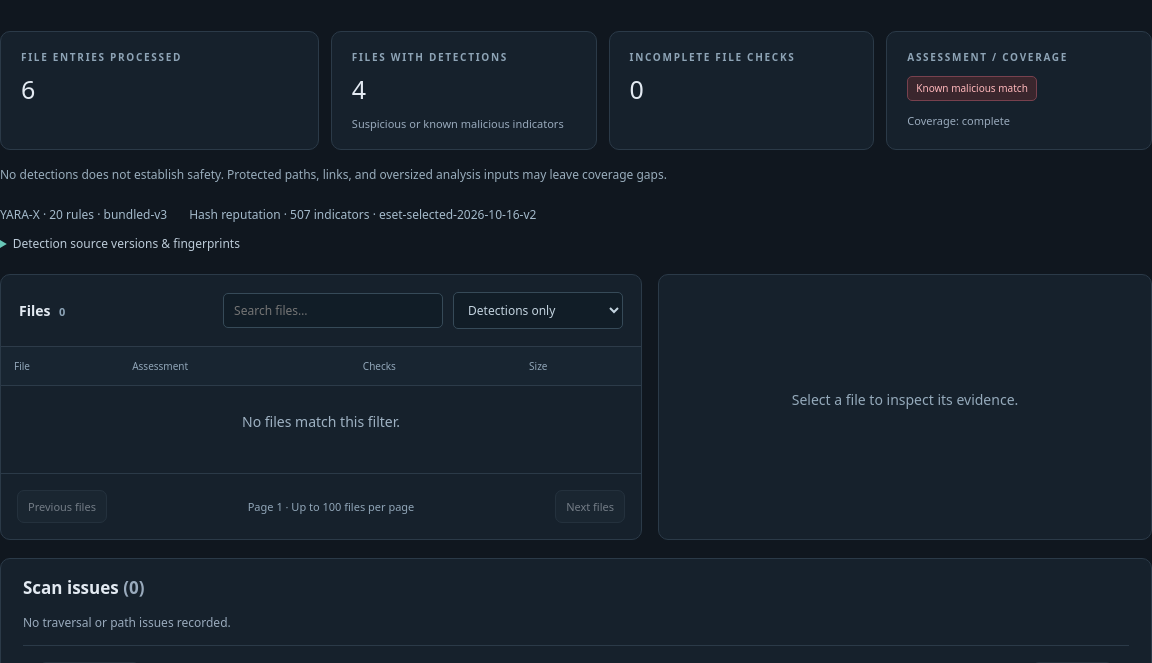
Test case: full-system scan workflow › pages backend results, requests details by ID, and exports the retained session
(page scrolled)
Select "All results" in the dropdown named "Filter system results" at (538, 311), box [453,292,623,329]
(page scrolled)
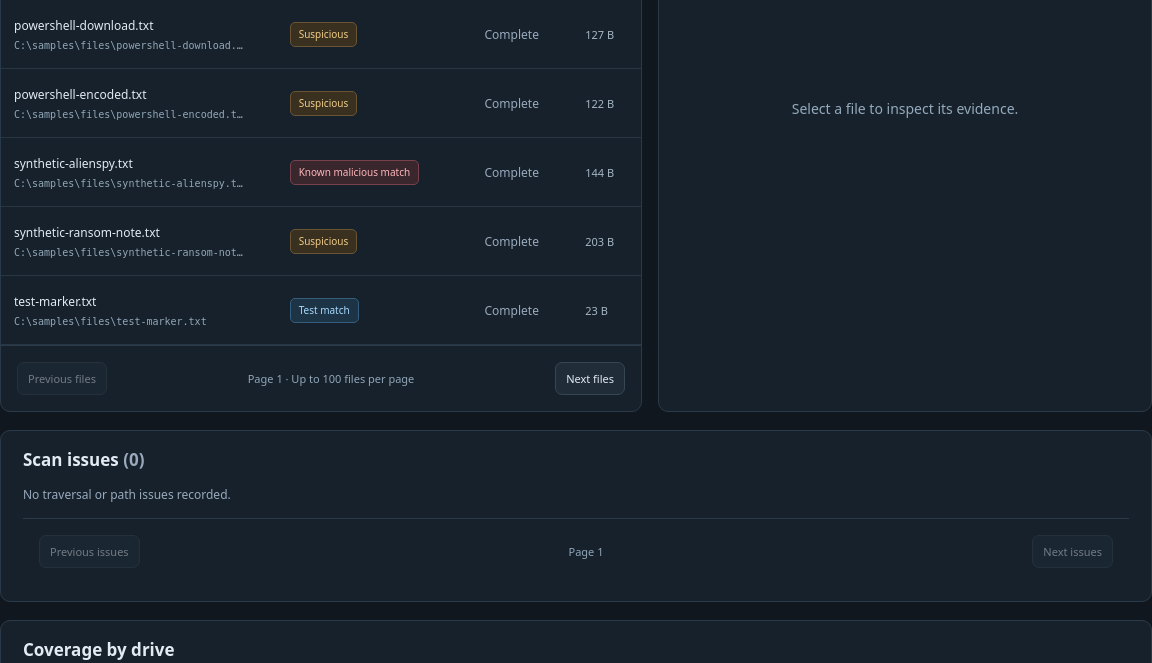
Click the button "test-marker.txt C:\\samples\\files\\test-marker.txt" at (55, 302), box [1,276,277,344]
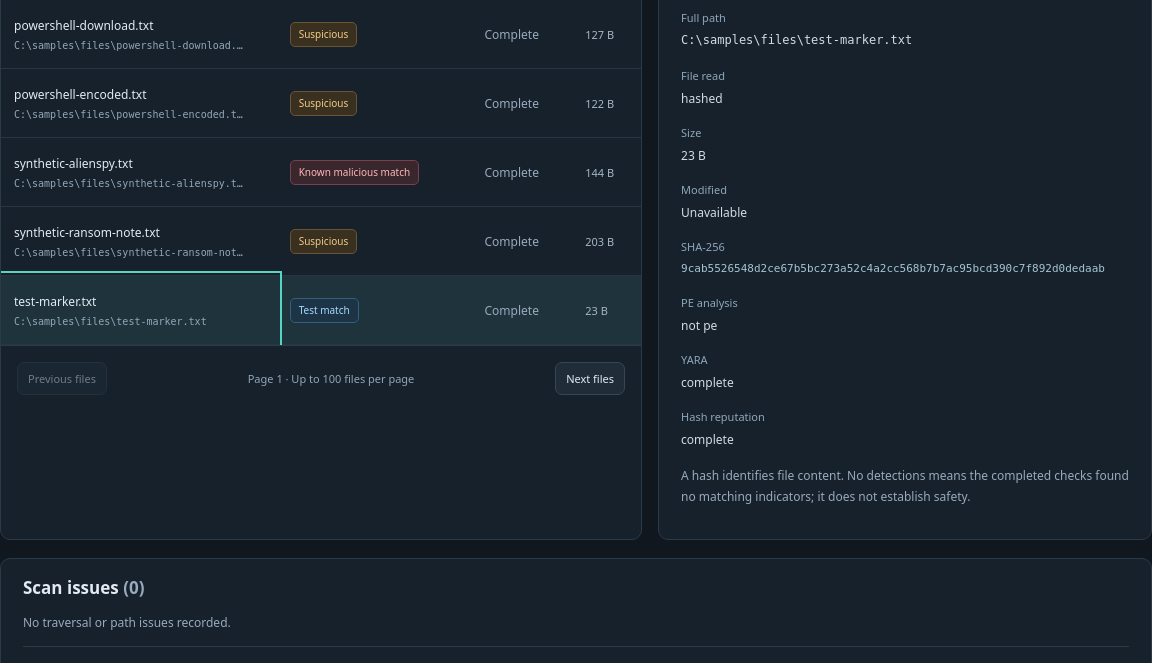
Result: the element named "File details" shows "SHA-256" at [681,239,725,254]
Click the button "Next files" at (590, 379), box [555,362,625,395]
(page scrolled)
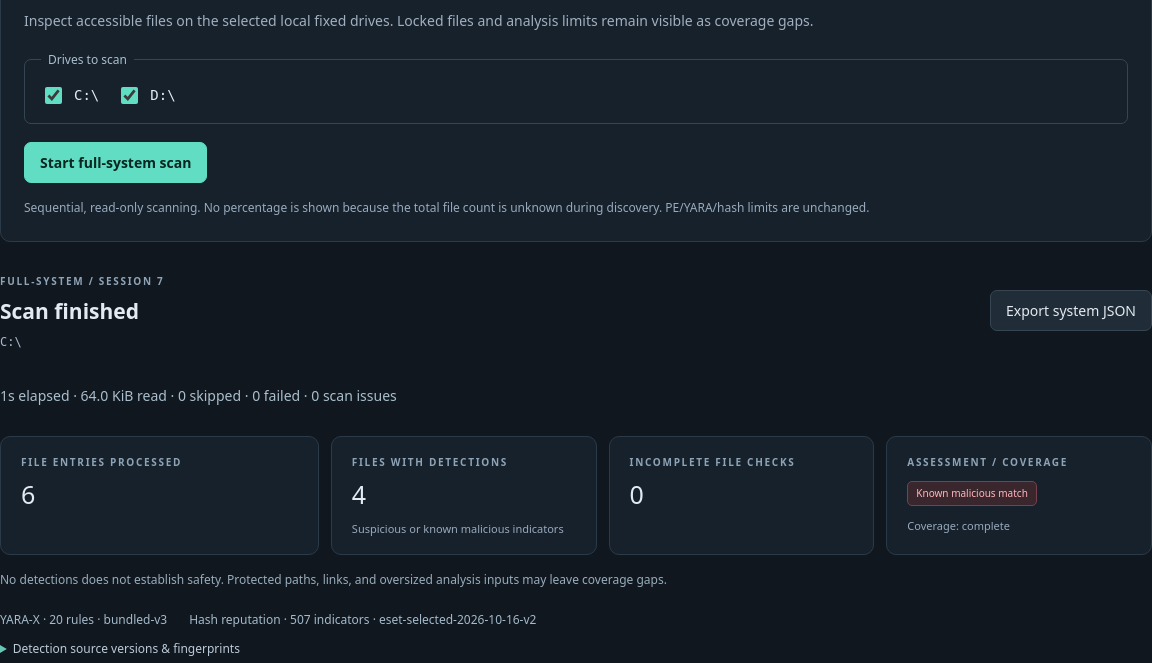
Click the button "Export system JSON" at (1071, 311), box [990,290,1151,332]
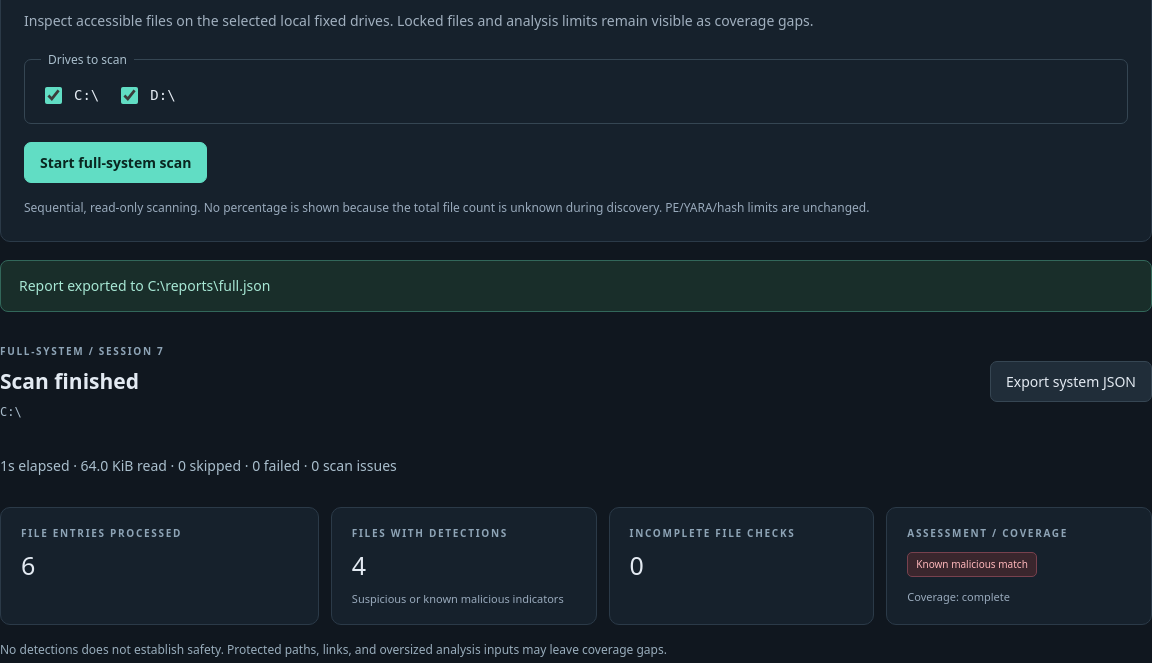
Result: the text "Report exported to C:\\reports\\full.json" is shown at [0,260,1151,312]
